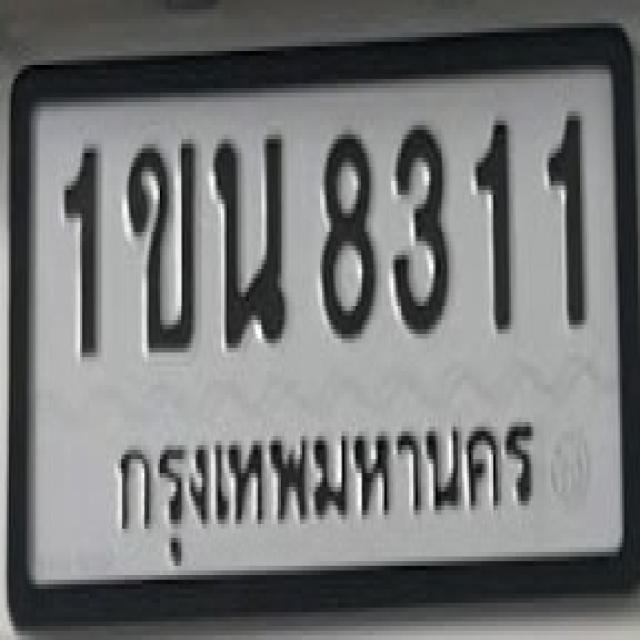license_plate: (11, 18, 640, 628)
